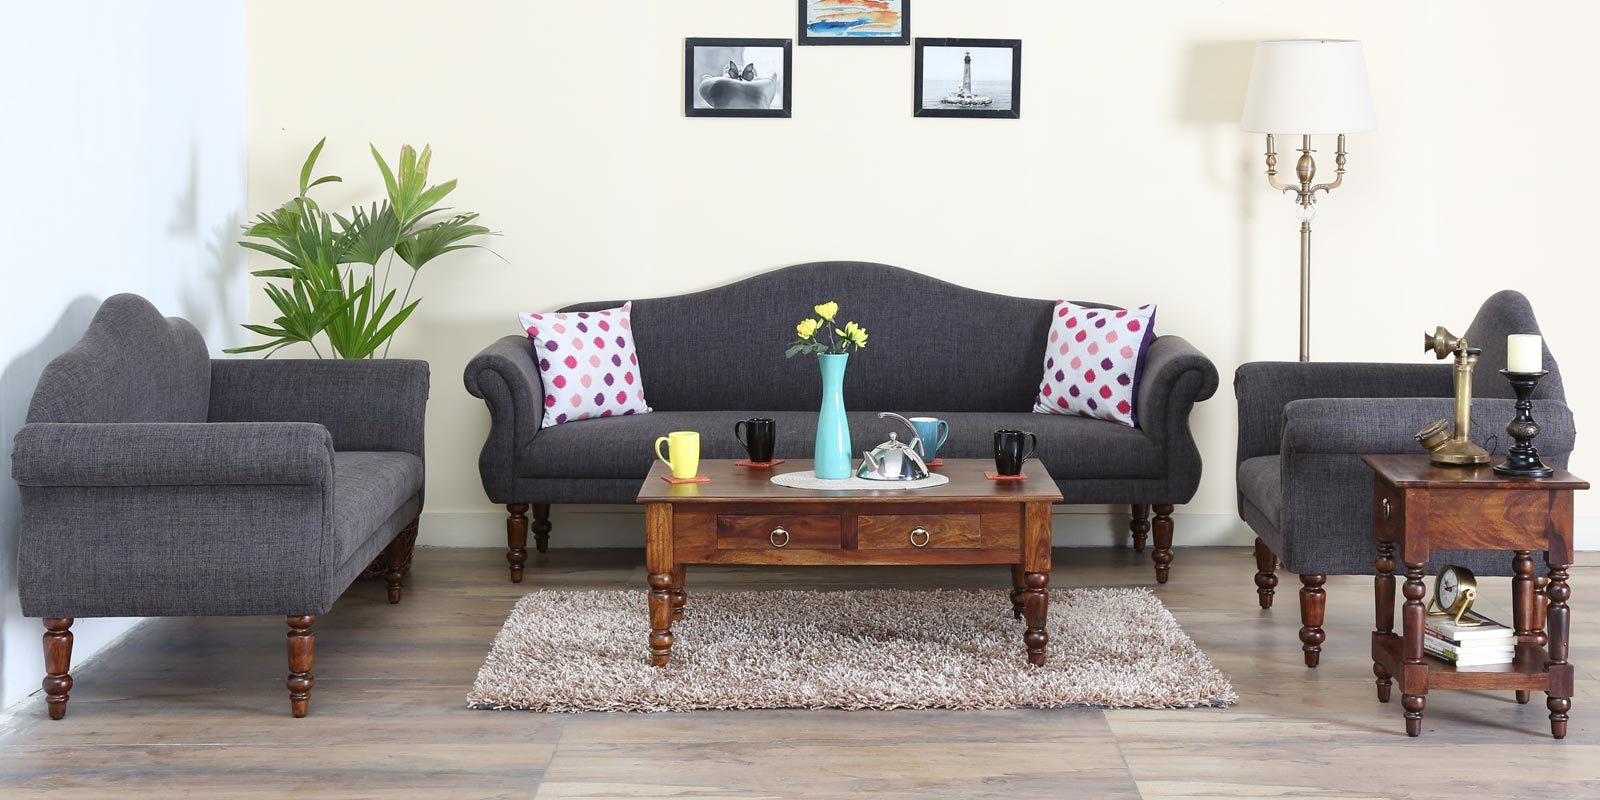Harleston Three Seater Sofa in Provincial Teak Finish by Amberville: (456, 232, 1229, 632), (11, 274, 440, 753), (1213, 285, 1581, 693)
